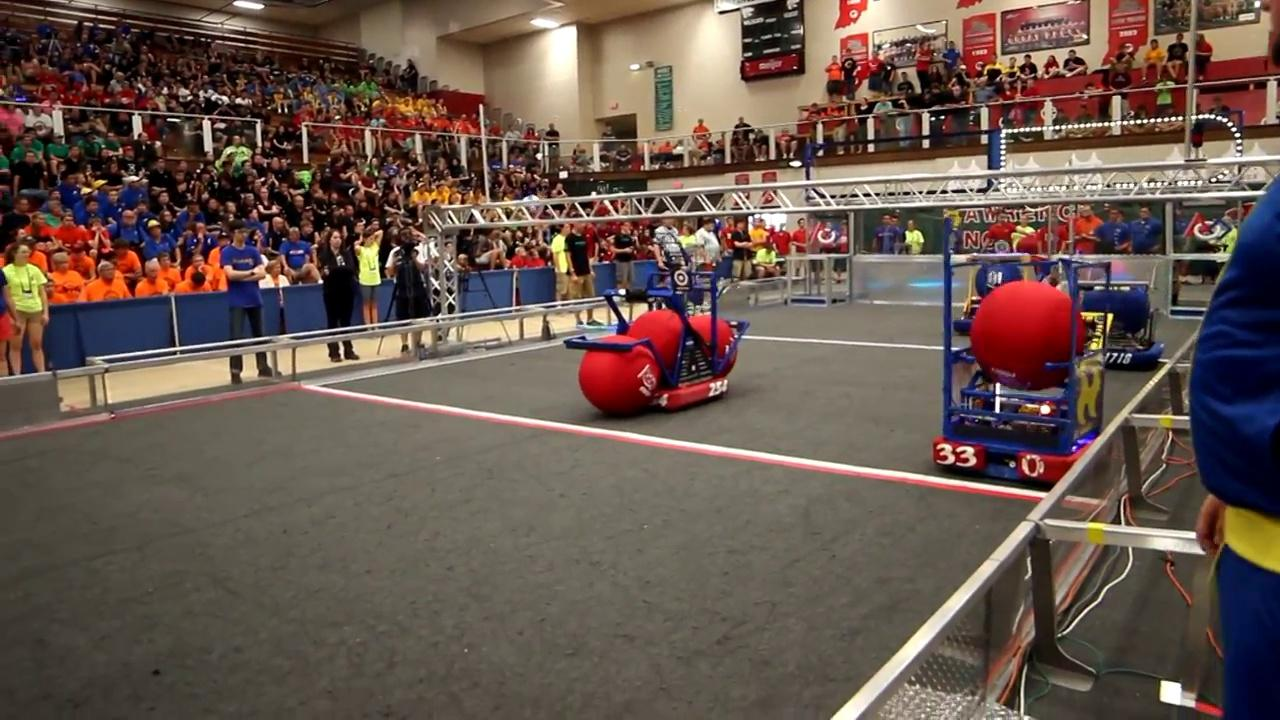robot: (928, 250, 1118, 483), (565, 272, 753, 410), (1070, 279, 1165, 373)
